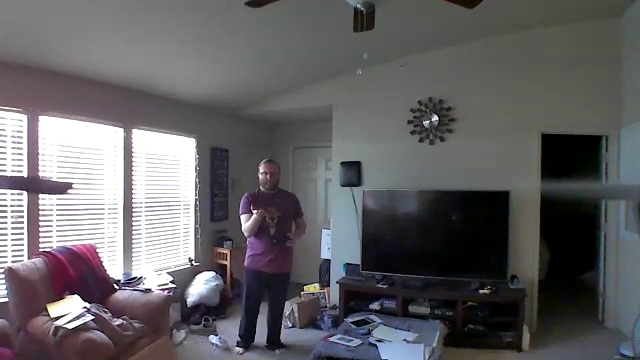land: (248, 204, 271, 222)
